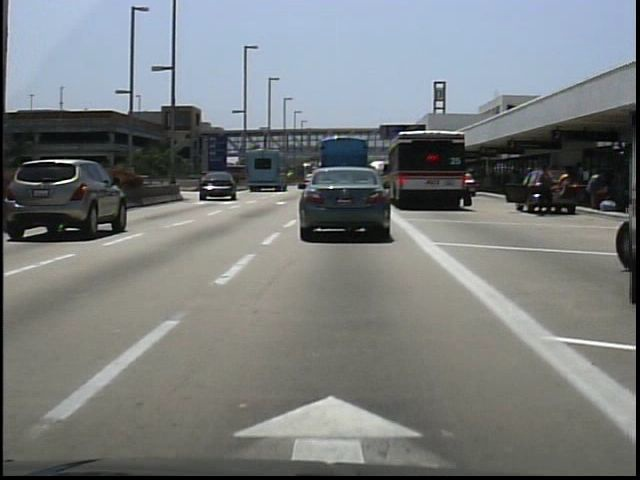person: (531, 162, 557, 219)
